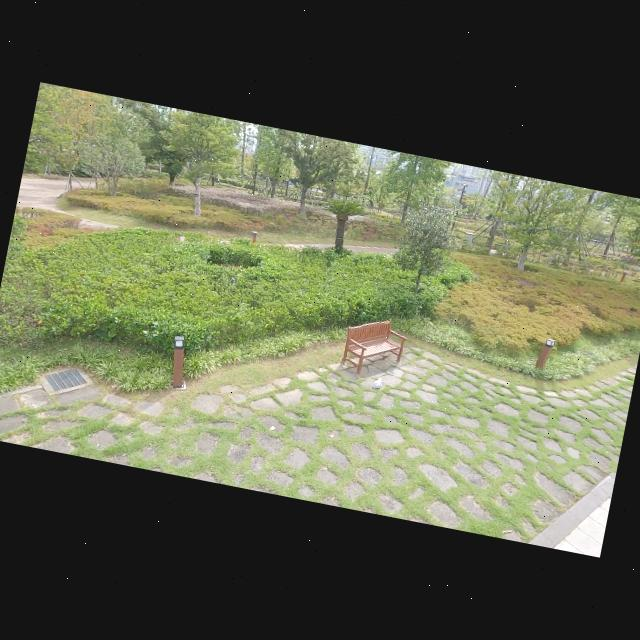trash: (372, 375, 384, 391)
